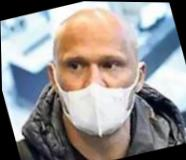WRONG: (47, 34, 150, 146)
